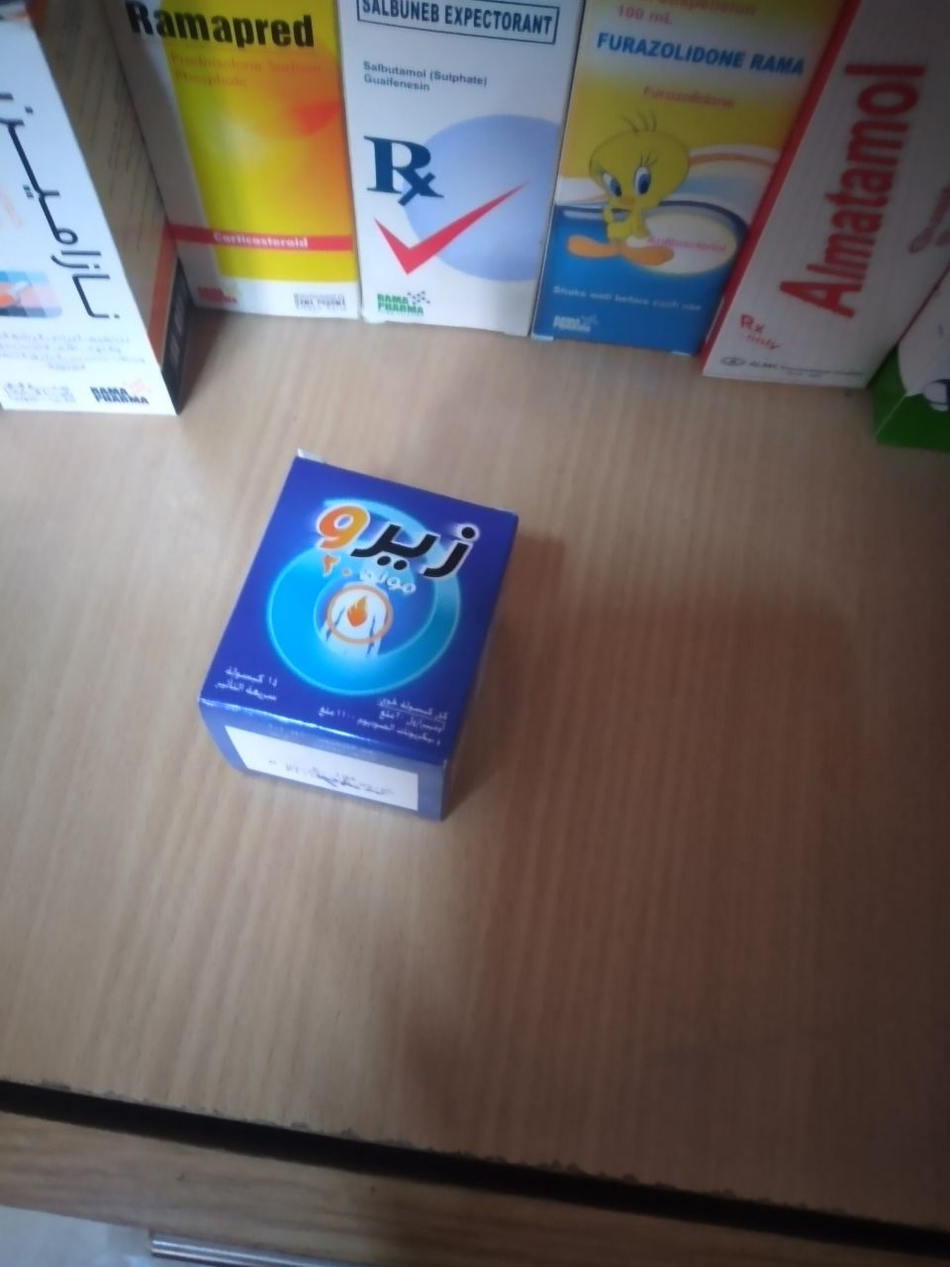Medicine: (181, 412, 548, 828), (544, 0, 835, 386), (86, 0, 389, 337), (712, 7, 950, 436), (330, 0, 587, 356), (0, 0, 181, 429)
